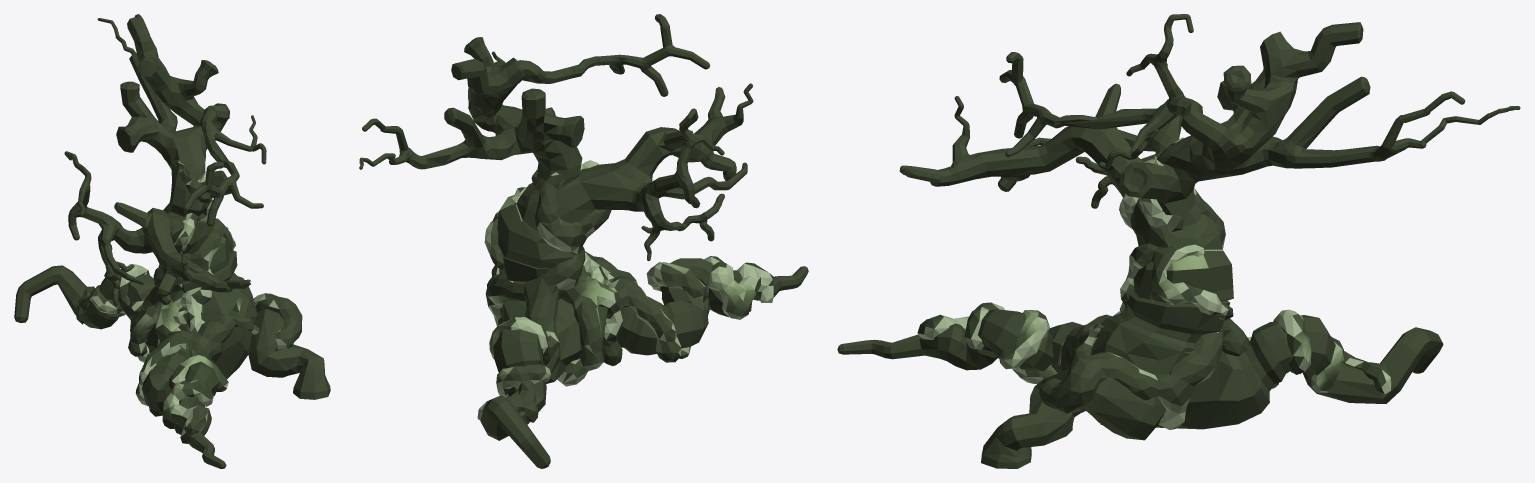
The model's file is EA_Swamp_tree5_Moss_01a.glb.
The picture shows the model from 3 angles, left to right: view 1: azimuth 30°, elevation 25°; view 2: azimuth 150°, elevation 25°; view 3: azimuth 270°, elevation 25°; orthographic projection. The views are drawn at different scales.
Visible parts, largest first — view 1: EA_Swamp_tree5_Moss_01a; view 2: EA_Swamp_tree5_Moss_01a; view 3: EA_Swamp_tree5_Moss_01a.
Part boxes in pixels (<box>): EA_Swamp_tree5_Moss_01a: <box>14,14,330,468</box>; EA_Swamp_tree5_Moss_01a: <box>359,14,808,468</box>; EA_Swamp_tree5_Moss_01a: <box>837,14,1520,468</box>.
Bounding box in the file's own units: 6.89 × 9.77 × 14.57.
1 material, 1 textured.
